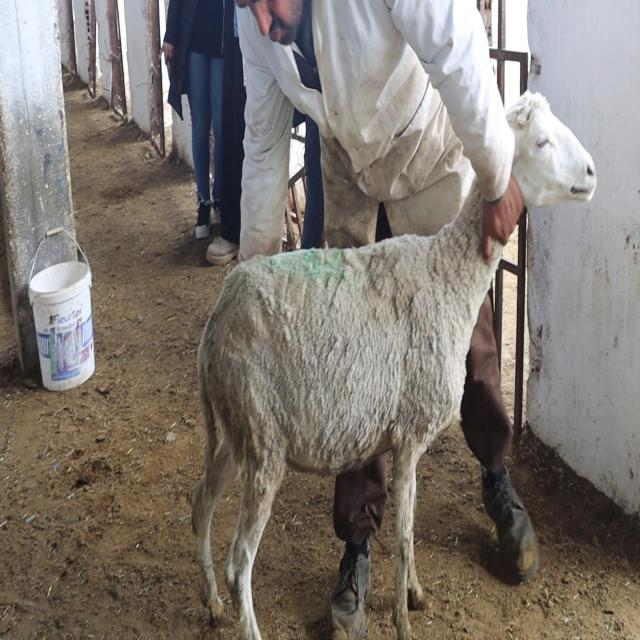Score_1: (191, 181, 504, 639)
